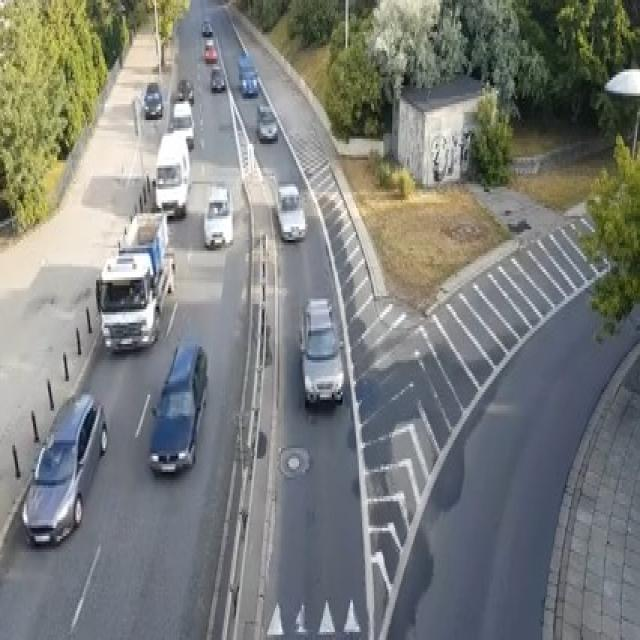car: (21, 392, 108, 547), (148, 341, 208, 475), (299, 296, 344, 405), (203, 184, 233, 248), (275, 181, 305, 240), (167, 98, 194, 146), (238, 53, 258, 96), (255, 104, 278, 141), (143, 80, 162, 117), (177, 77, 194, 104), (210, 64, 226, 91), (204, 38, 217, 62), (201, 18, 212, 34)
truck: (95, 208, 174, 352)
